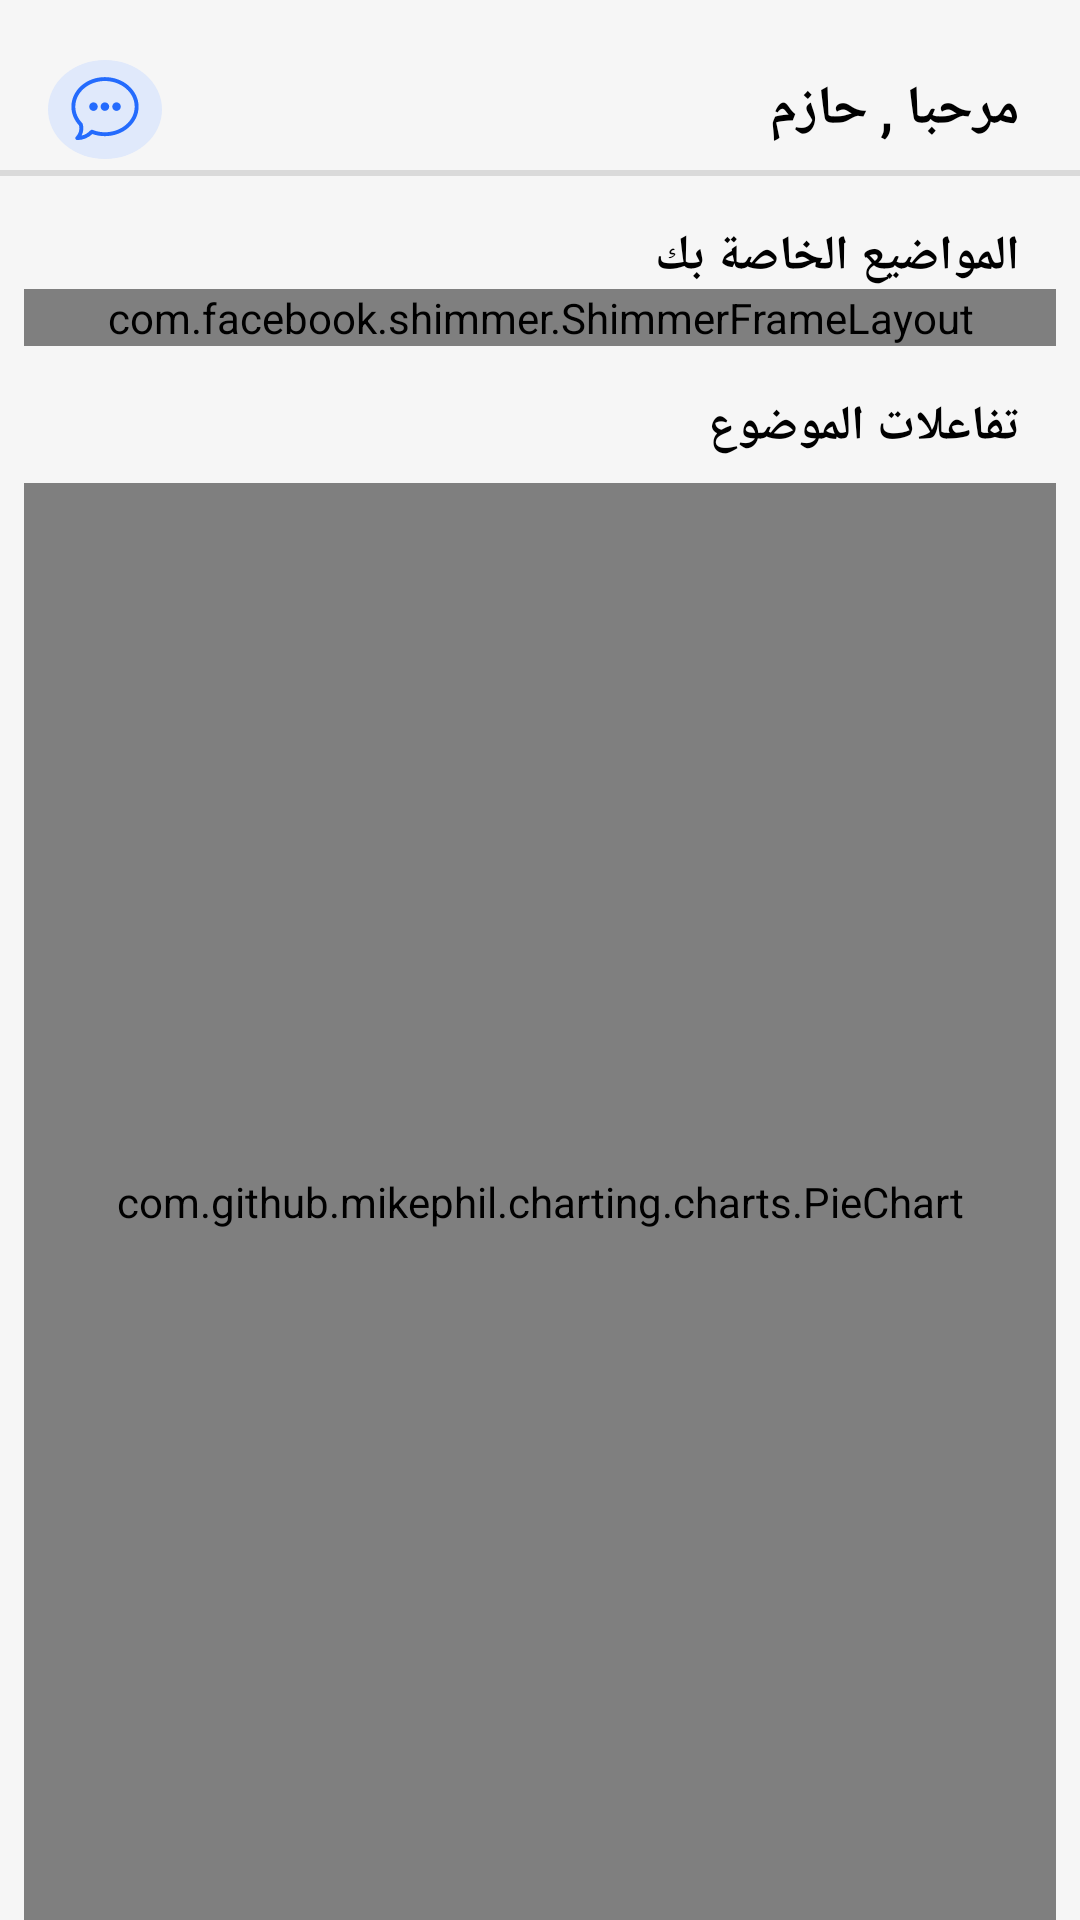

Icon click points for this 1080px x 1920px phone screenshot, format (x,y):
chat: (105,109)
